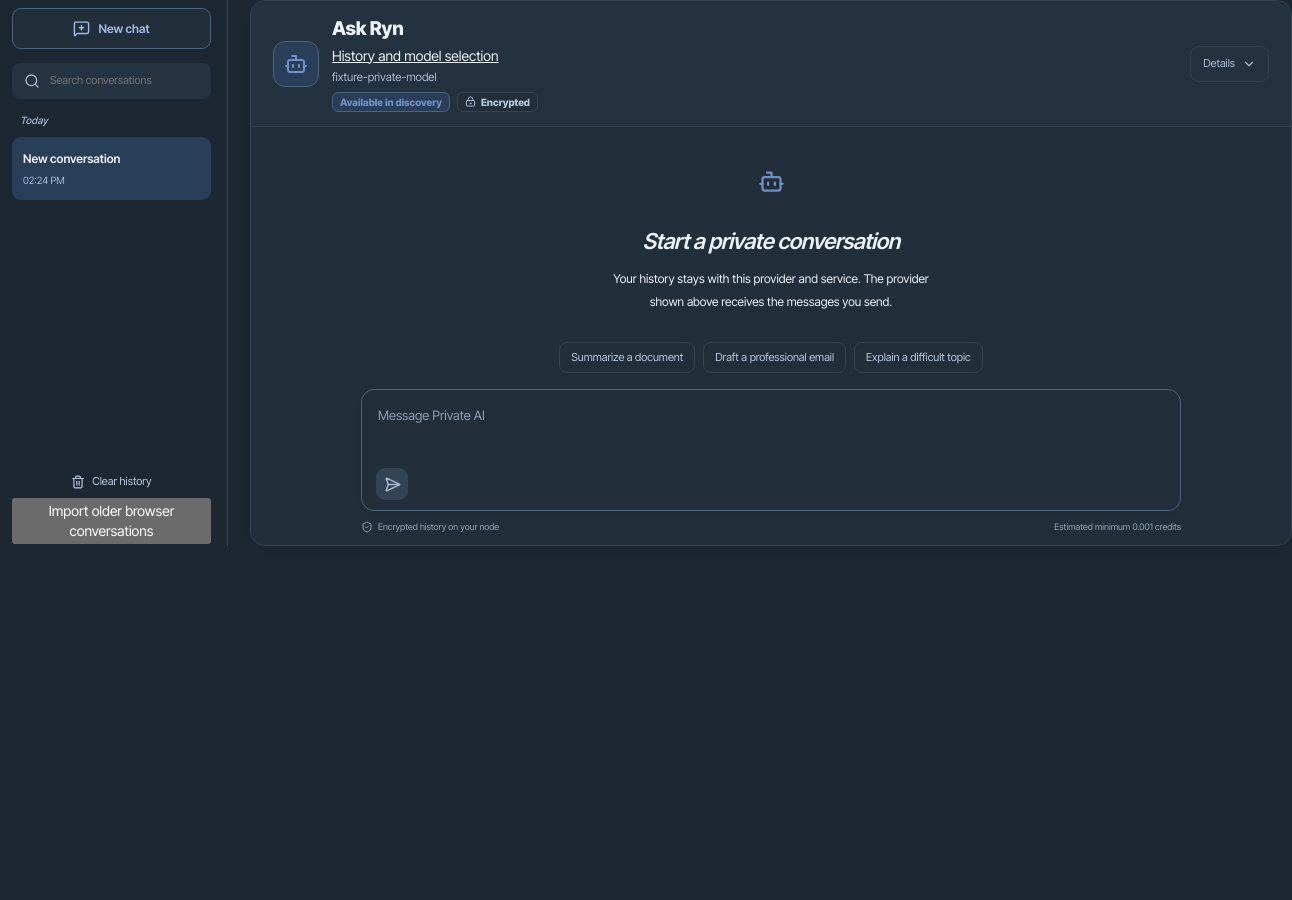
it: Private AI chat › keeps the reviewed request retryable and frees the composer when the node times out
Expected: the heading "Ask Ryn" is shown, [332,17,404,40]
Type "Question that times out" into the text box labelled "Message Private AI" at (771, 433), box [376,402,1166,464]
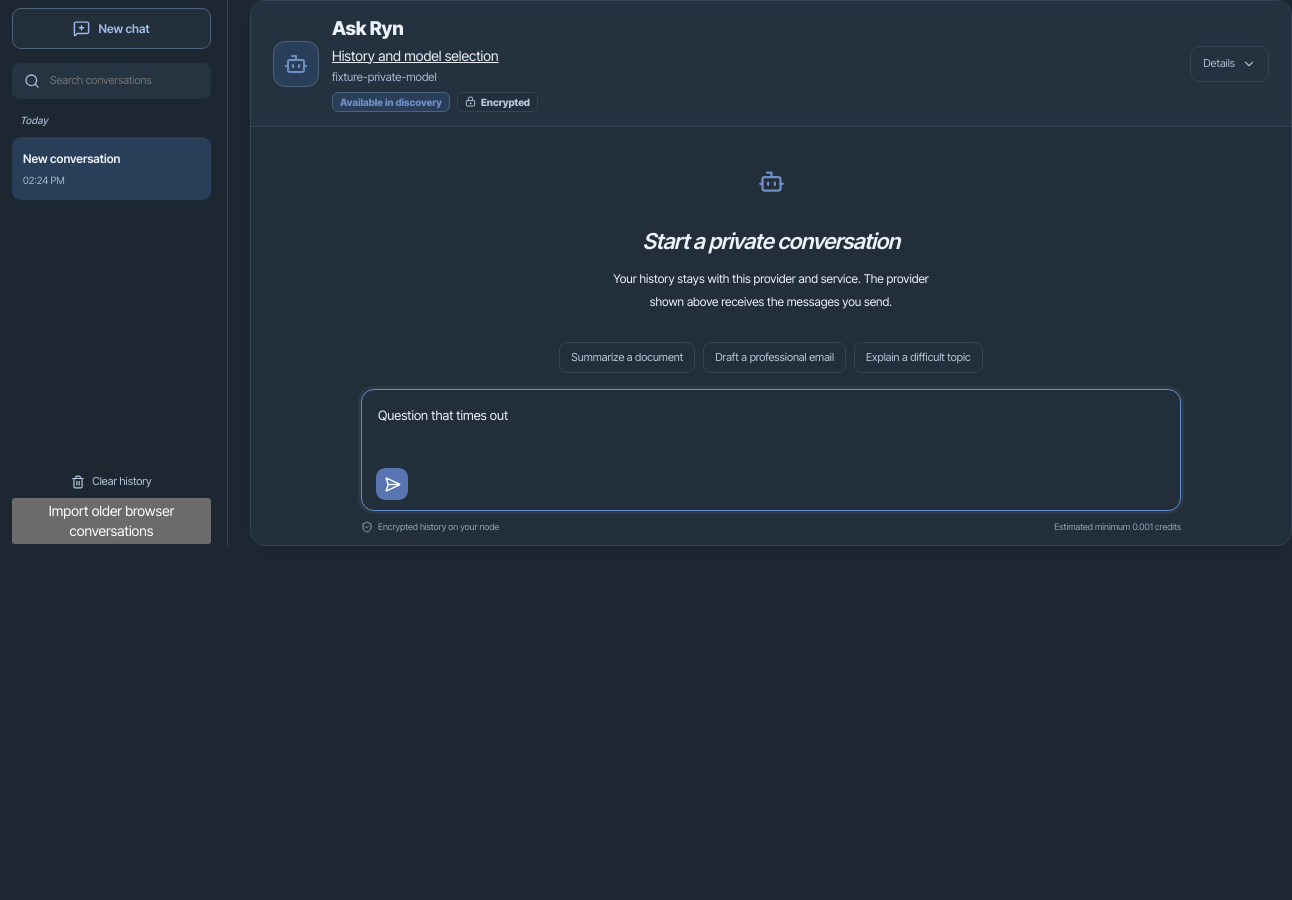
Click the button named "Send message" at (392, 484), box [376,468,408,500]
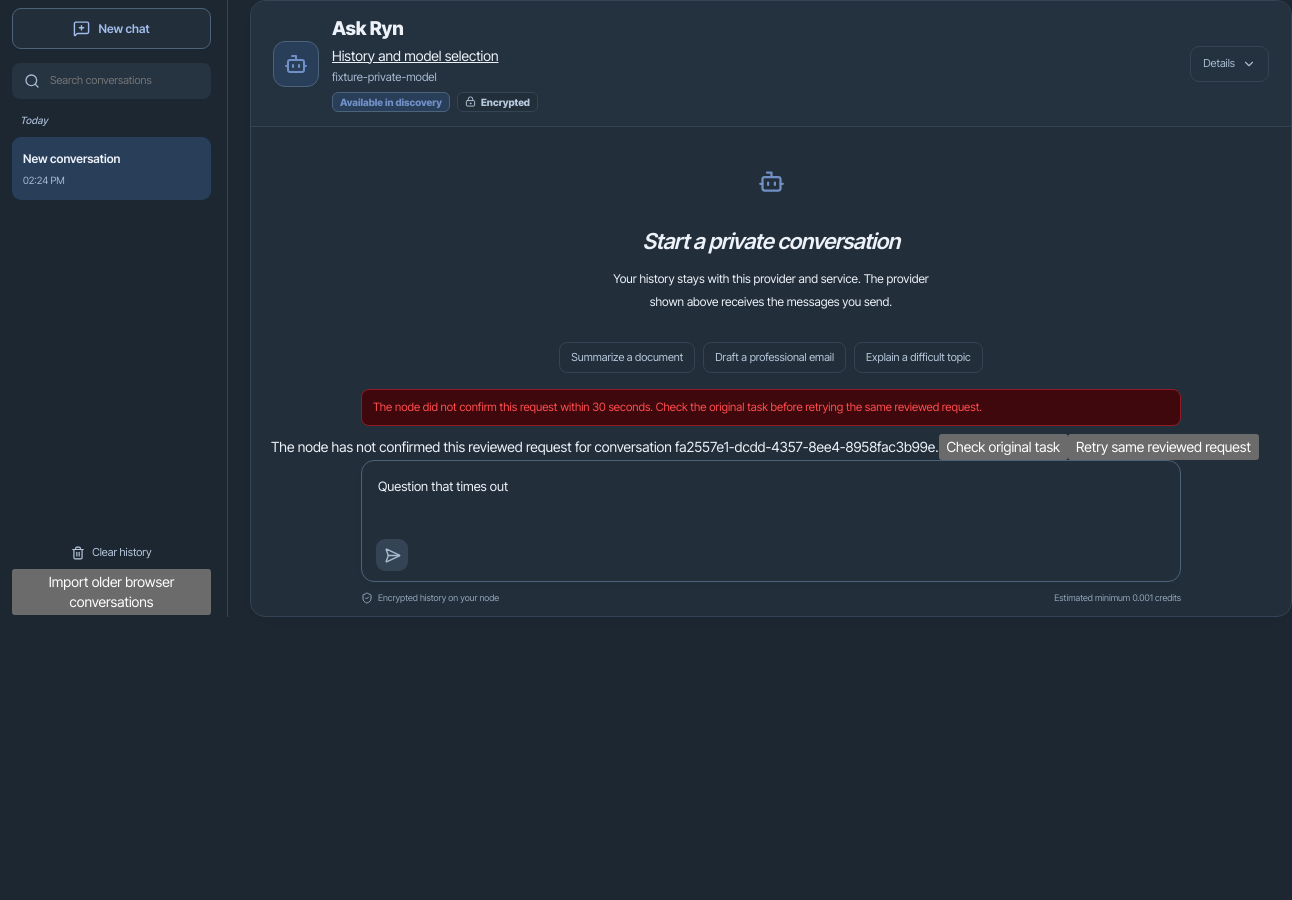
Expected: the 1st message shows "The node did not confirm this request within 30 seconds. Check the original task before retrying the same reviewed request.", [373,400,982,414]
Expected: the button "Retry same reviewed request" is enabled, [1068,434,1259,460]
